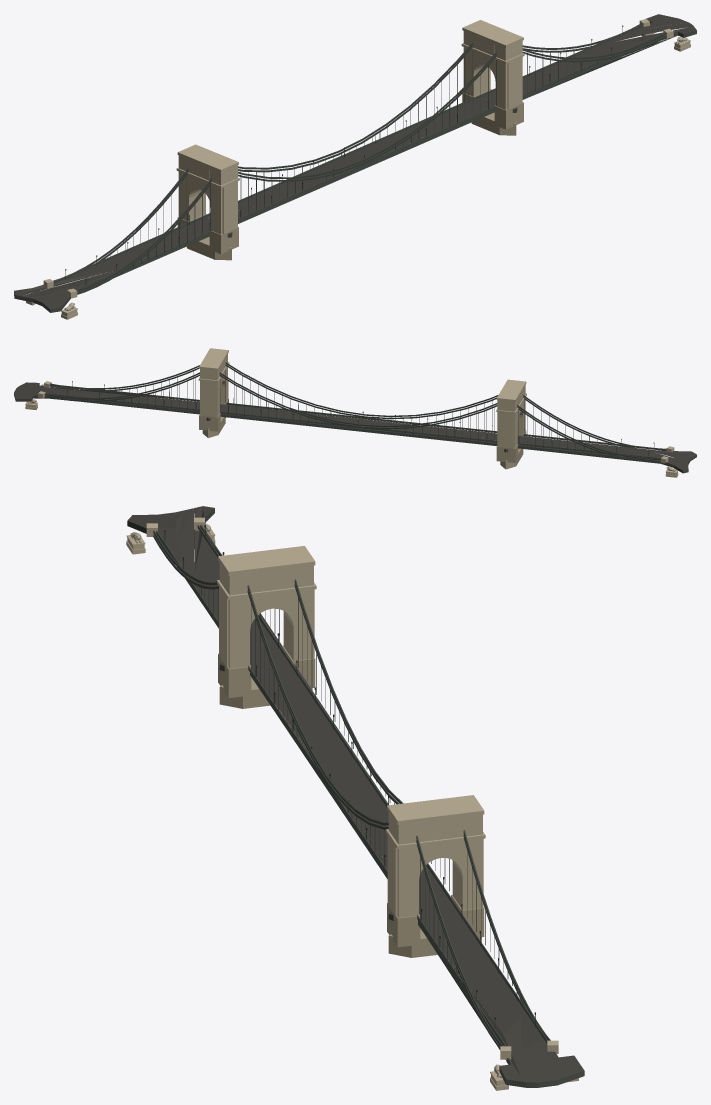
The model's file is chainBridge.glb.
3 views of the same model, one above another, from view 1: azimuth 30°, elevation 25°; view 2: azimuth 150°, elevation 25°; view 3: azimuth 270°, elevation 25° (orthographic). The views are drawn at different scales.
Parts seen in each view (by area): view 1: chainBridge; view 2: chainBridge; view 3: chainBridge.
Boxes of the visible parts, x1,y1,x2,y2 form: chainBridge: (14,14,696,319); chainBridge: (14,348,696,477); chainBridge: (126,506,584,1090).
Bounding box in the file's own units: 449 × 51 × 151.
